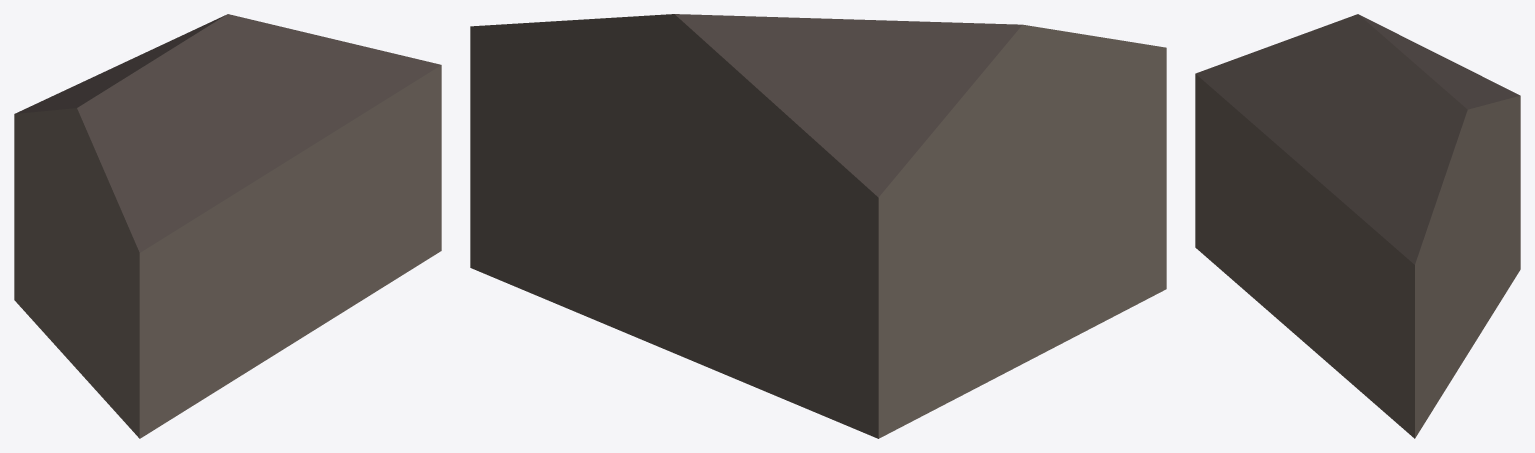
The picture shows the model from 3 angles, left to right: view 1: azimuth 30°, elevation 25°; view 2: azimuth 150°, elevation 25°; view 3: azimuth 270°, elevation 25°; orthographic projection. The views are drawn at different scales.
Visible parts, largest first — view 1: HP-w859082484; view 2: HP-w859082484; view 3: HP-w859082484.
Boxes of the visible parts, box(x1,y1,x2,y2) form: HP-w859082484: box(14, 14, 441, 438); HP-w859082484: box(470, 14, 1166, 438); HP-w859082484: box(1195, 14, 1520, 438).
Bounding box in the file's own units: 14.16 × 8.44 × 10.17.
